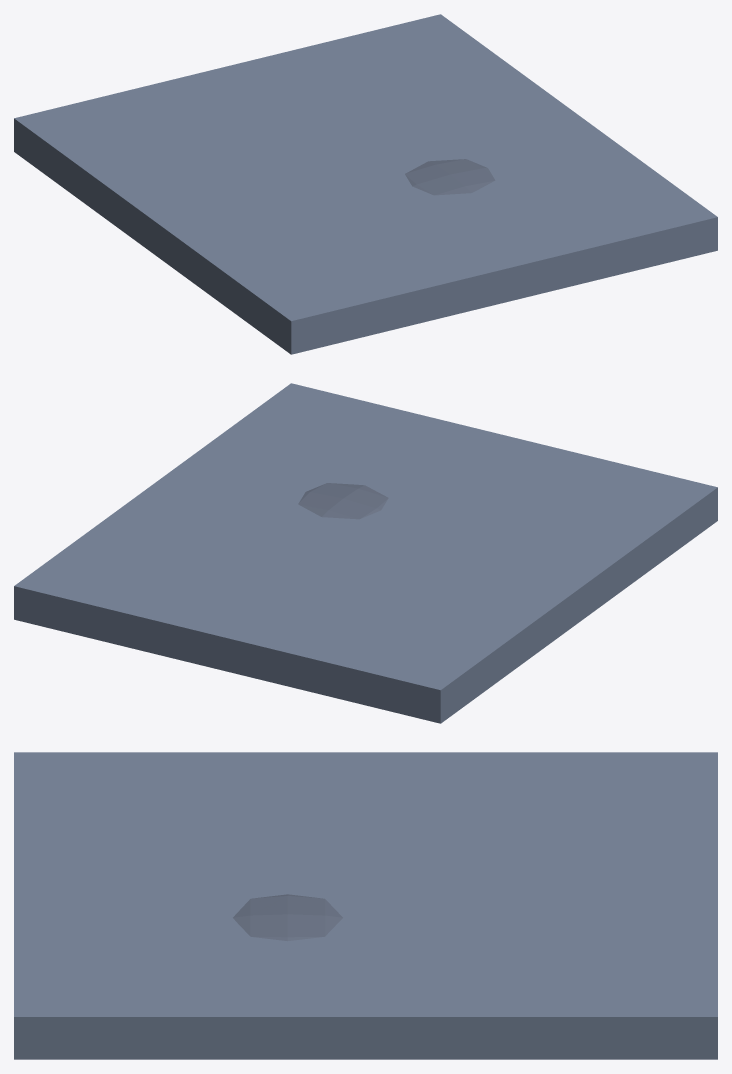
File: dent_hood_swap.glb
3 views of the same model, one above another, from view 1: azimuth 30°, elevation 25°; view 2: azimuth 150°, elevation 25°; view 3: azimuth 270°, elevation 25° (orthographic). The views are drawn at different scales.
Visible parts, largest first — view 1: hood, dent; view 2: hood, dent; view 3: hood, dent.
Part boxes in pixels (x1,y1,x2,y2): hood: (14,14,717,354); dent: (405,159,495,195); hood: (14,383,717,723); dent: (298,483,388,519); hood: (14,752,717,1059); dent: (233,894,342,941).
Size of the model in its own units: 1.6 by 0.1299 by 1.8.
